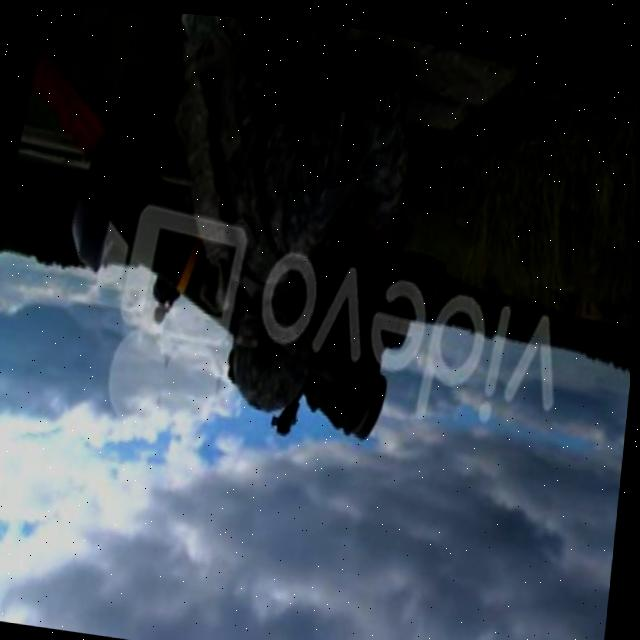rocket: (56, 100, 271, 338)
